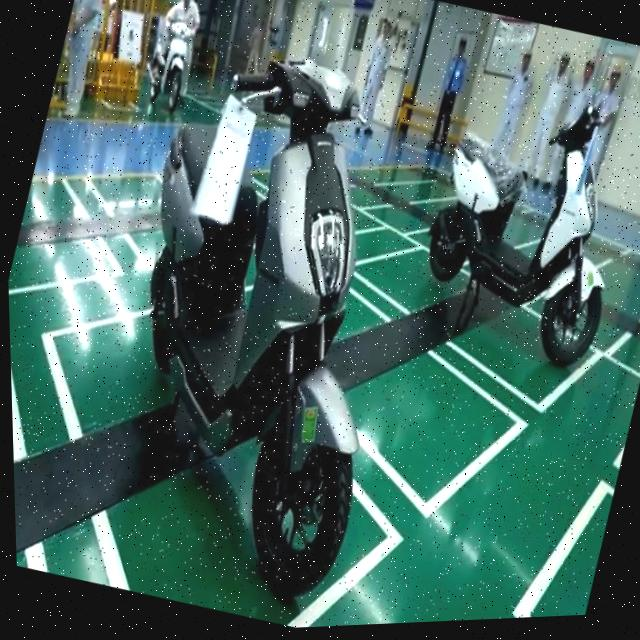motorcycle: (41, 22, 467, 636), (395, 59, 640, 384)
